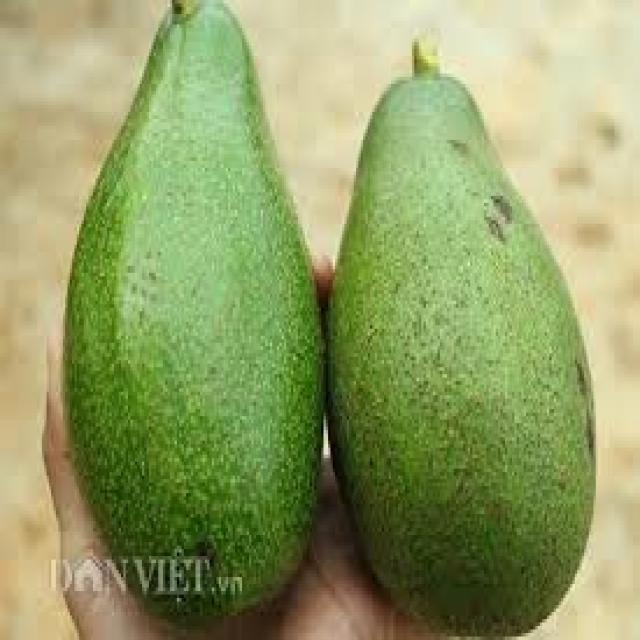Bo: (56, 4, 326, 624), (328, 31, 599, 638)
